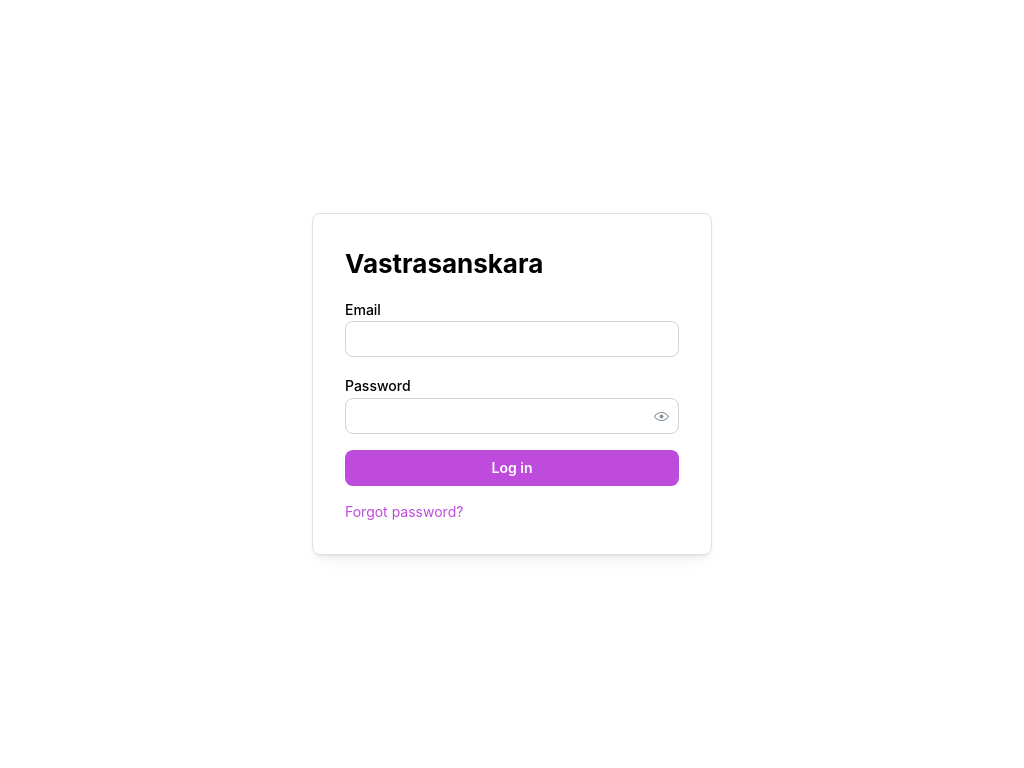
Test case: redirects home after login
Type "o@x.com" into the field labelled "Email" at x=512, y=339, box [345,321,679,357]
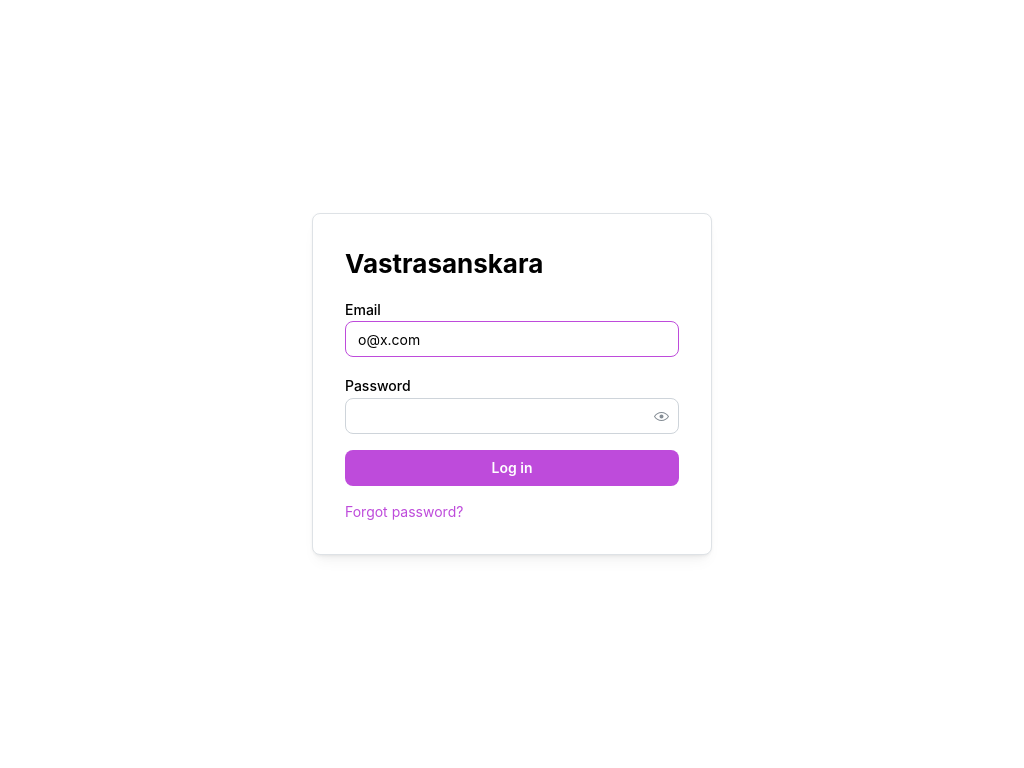
Type "correct-horse-1" into the password field labelled "Password" at x=512, y=416, box [346,399,678,433]
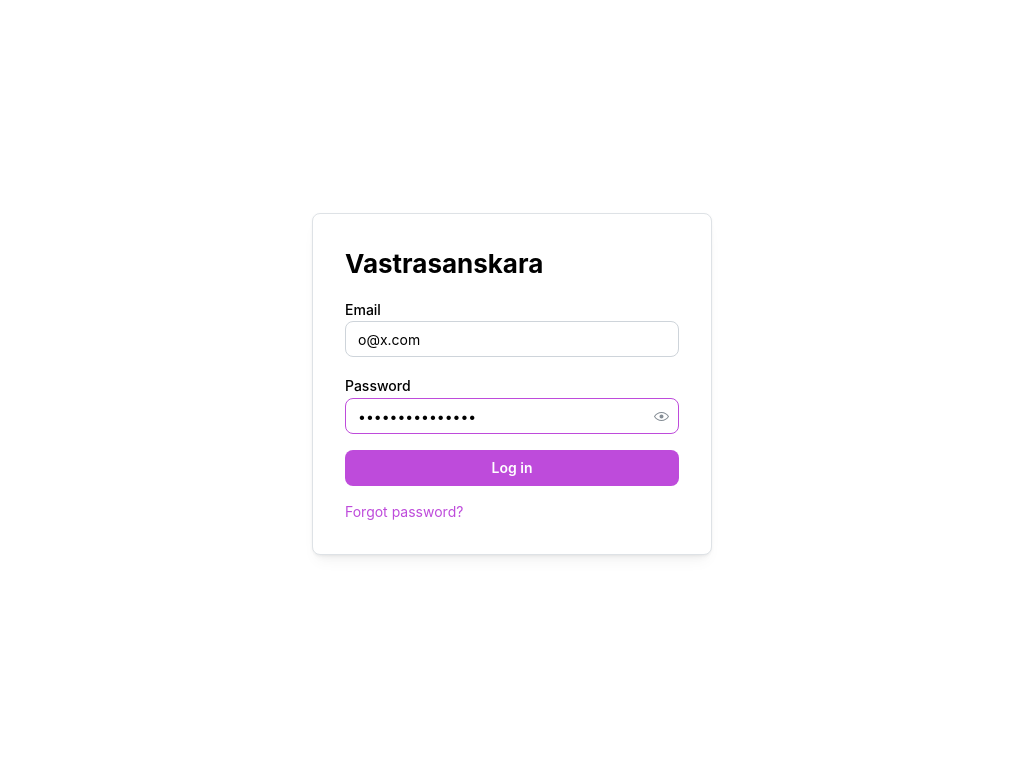
Click the button "Log in" at x=512, y=468, box [345,450,679,486]
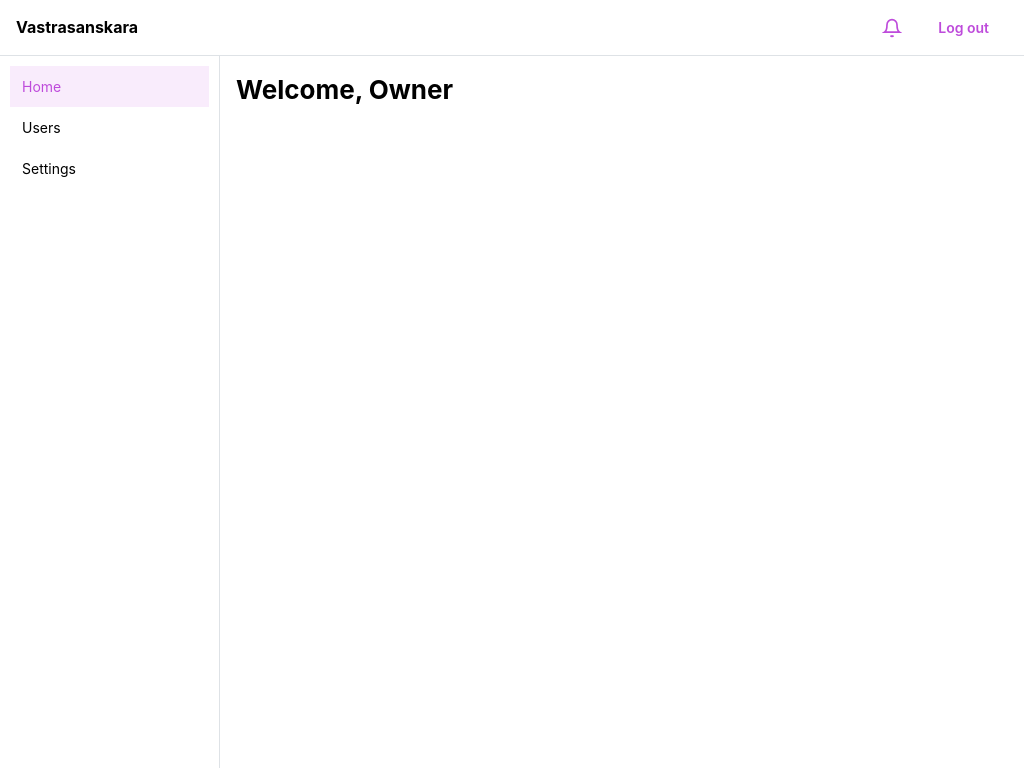
Expected: the heading "Welcome, Owner" is shown, [236,74,453,105]
